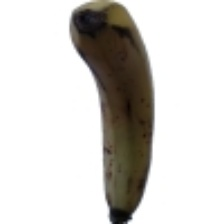banana: (37, 10, 185, 190)
